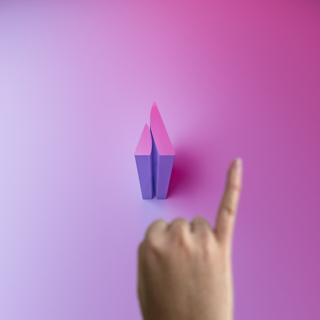Fine: (126, 148, 248, 319)
